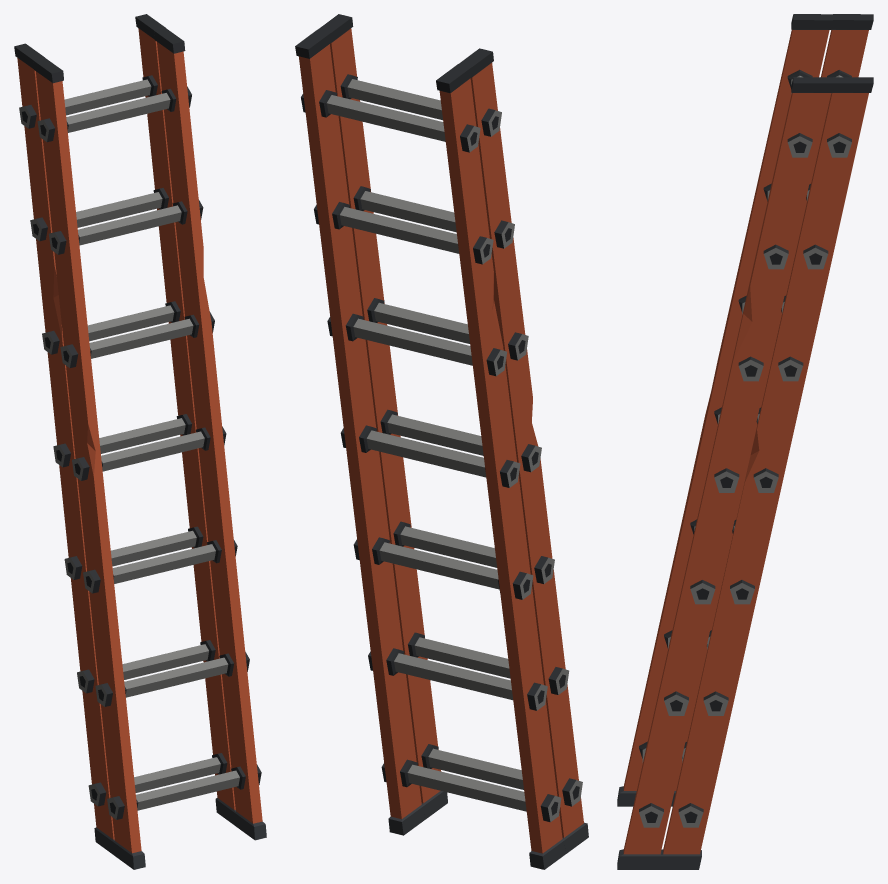
The model's file is SM_Prop_Ladder_Extender_01.glb.
3 views of the same model, side by side, from view 1: azimuth 30°, elevation 25°; view 2: azimuth 150°, elevation 25°; view 3: azimuth 270°, elevation 25° (orthographic). The views are drawn at different scales.
Visible parts, largest first — view 1: SM_Prop_Ladder_Extender_Slide_01, SM_Prop_Ladder_Extender_01; view 2: SM_Prop_Ladder_Extender_01, SM_Prop_Ladder_Extender_Slide_01; view 3: SM_Prop_Ladder_Extender_Slide_01, SM_Prop_Ladder_Extender_01.
Part boxes in pixels (<box>): SM_Prop_Ladder_Extender_Slide_01: <box>33,28,266,869</box>; SM_Prop_Ladder_Extender_01: <box>14,14,235,854</box>; SM_Prop_Ladder_Extender_01: <box>295,29,566,869</box>; SM_Prop_Ladder_Extender_Slide_01: <box>318,14,588,853</box>; SM_Prop_Ladder_Extender_Slide_01: <box>617,14,832,869</box>; SM_Prop_Ladder_Extender_01: <box>659,14,873,869</box>.
Size of the model in its own units: 0.7165 by 3.52 by 1.04.
1 material, 1 textured.
